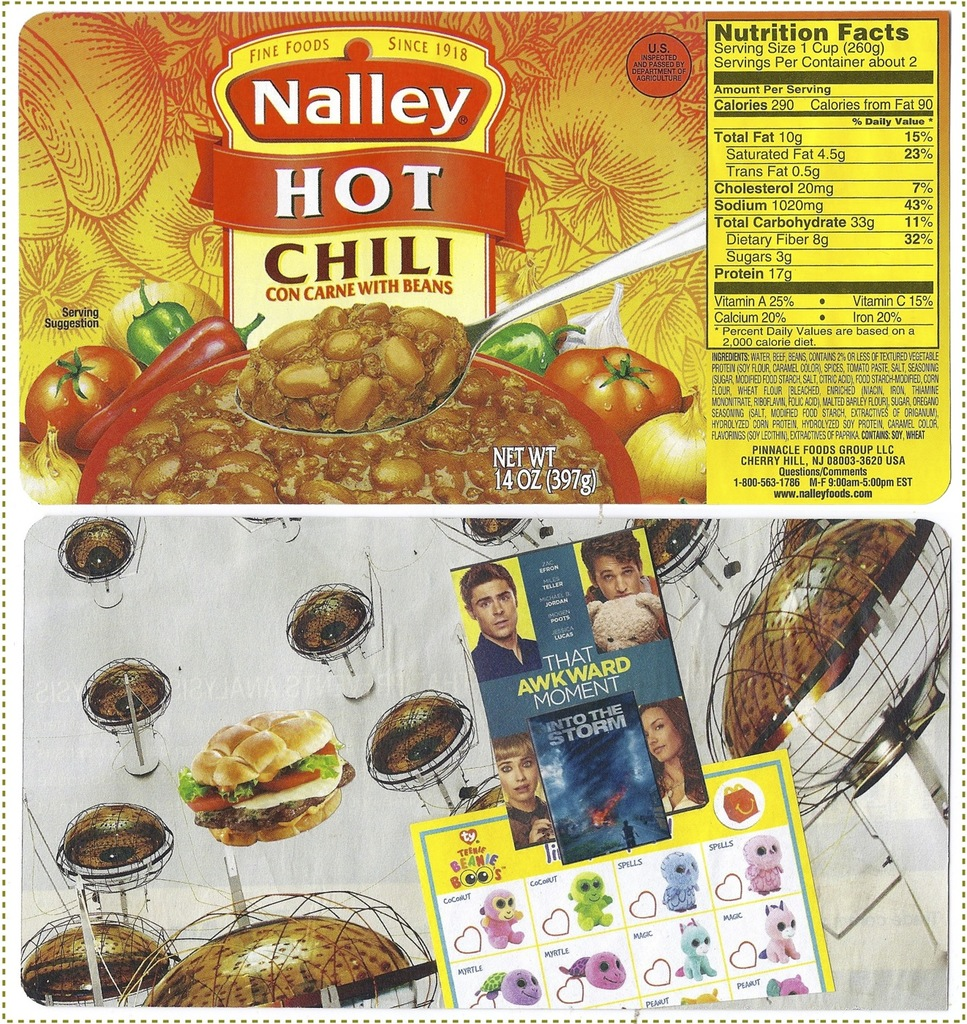Hamburger: (172, 710, 353, 849)
